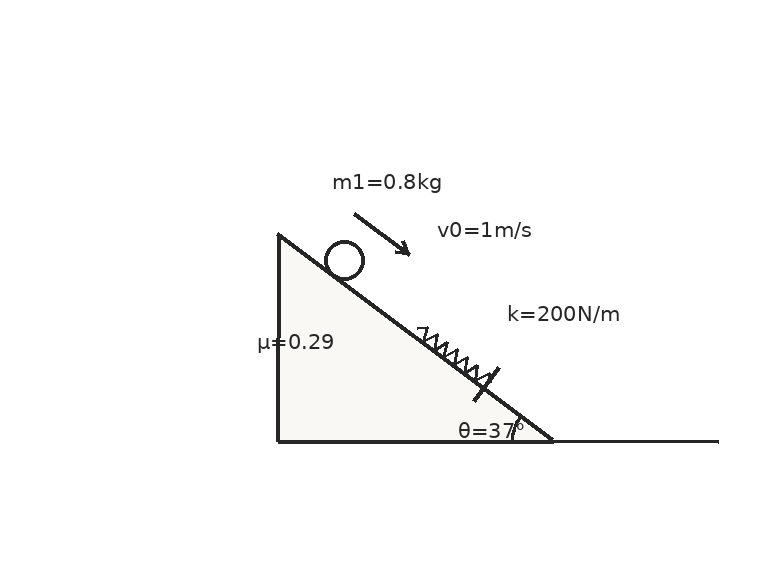ball: (322, 238, 366, 282)
ramp: (275, 232, 554, 443)
spring: (415, 324, 491, 384)
